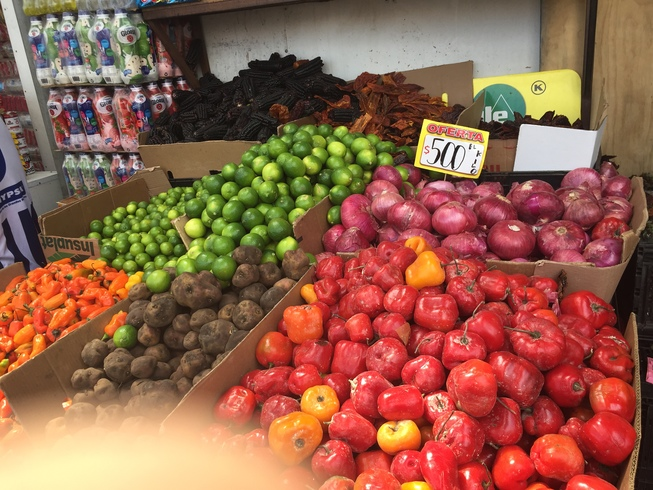precio: (412, 114, 490, 187)
